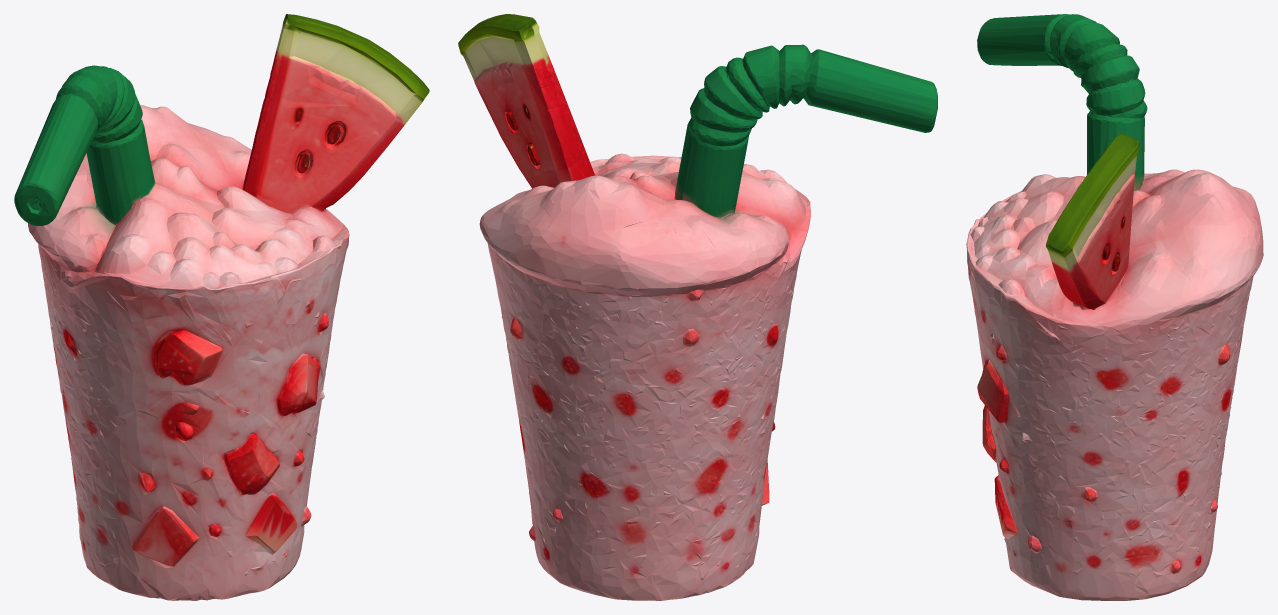
File: Web_MilkSlush_Melon.obj
3 views of the same model, side by side, from view 1: azimuth 30°, elevation 25°; view 2: azimuth 150°, elevation 25°; view 3: azimuth 270°, elevation 25° (orthographic). The views are drawn at different scales.
Visible parts, largest first — view 1: Web_MilkSlush_Melon; view 2: Web_MilkSlush_Melon; view 3: Web_MilkSlush_Melon.
Part boxes in pixels (x1,y1,x2,y2): Web_MilkSlush_Melon: [14, 14, 429, 600]; Web_MilkSlush_Melon: [458, 14, 937, 600]; Web_MilkSlush_Melon: [966, 14, 1263, 600].
Size of the model in its own units: 0.8898 by 0.9998 by 0.5546.
Materials: 1 (1 with a texture image).
